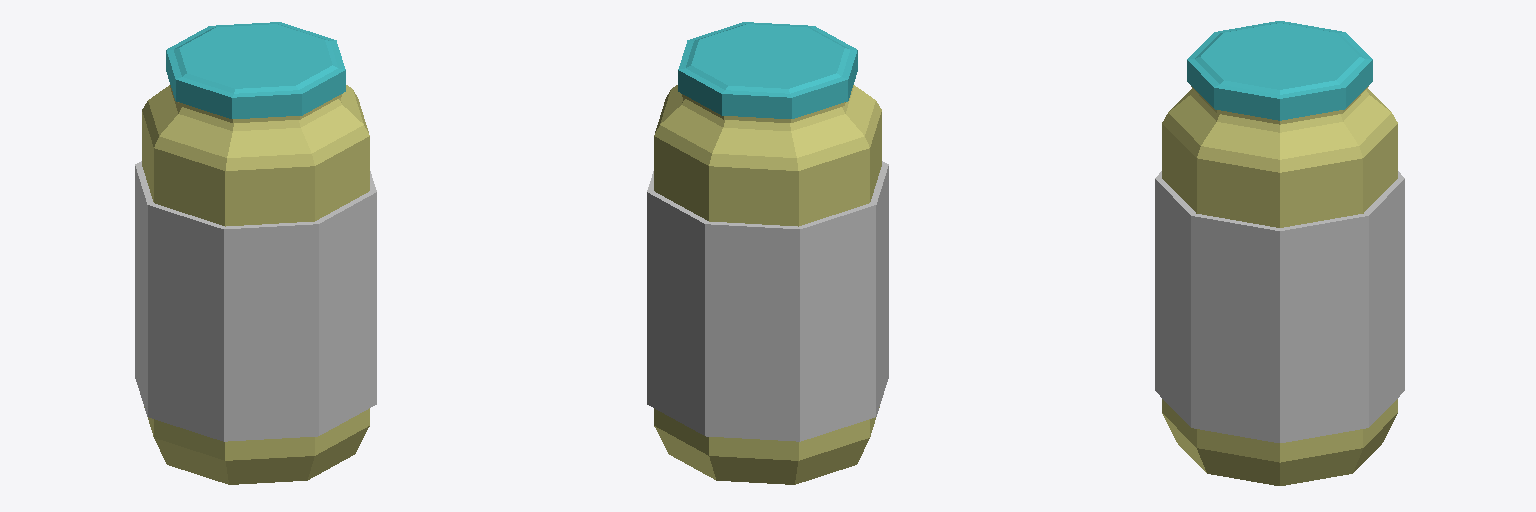
File: Mayo.obj
3 renders of one model, left to right at view 1: azimuth 30°, elevation 25°; view 2: azimuth 150°, elevation 25°; view 3: azimuth 270°, elevation 25°, orthographic.
Parts seen in each view (by area): view 1: Circle.003_Circle.059; view 2: Circle.003_Circle.059; view 3: Circle.003_Circle.059.
Boxes of the visible parts, <box> form: Circle.003_Circle.059: <box>135,22,376,484</box>; Circle.003_Circle.059: <box>647,22,888,484</box>; Circle.003_Circle.059: <box>1155,21,1404,485</box>.
Size of the model in its own units: 3.59 by 6.31 by 3.59.